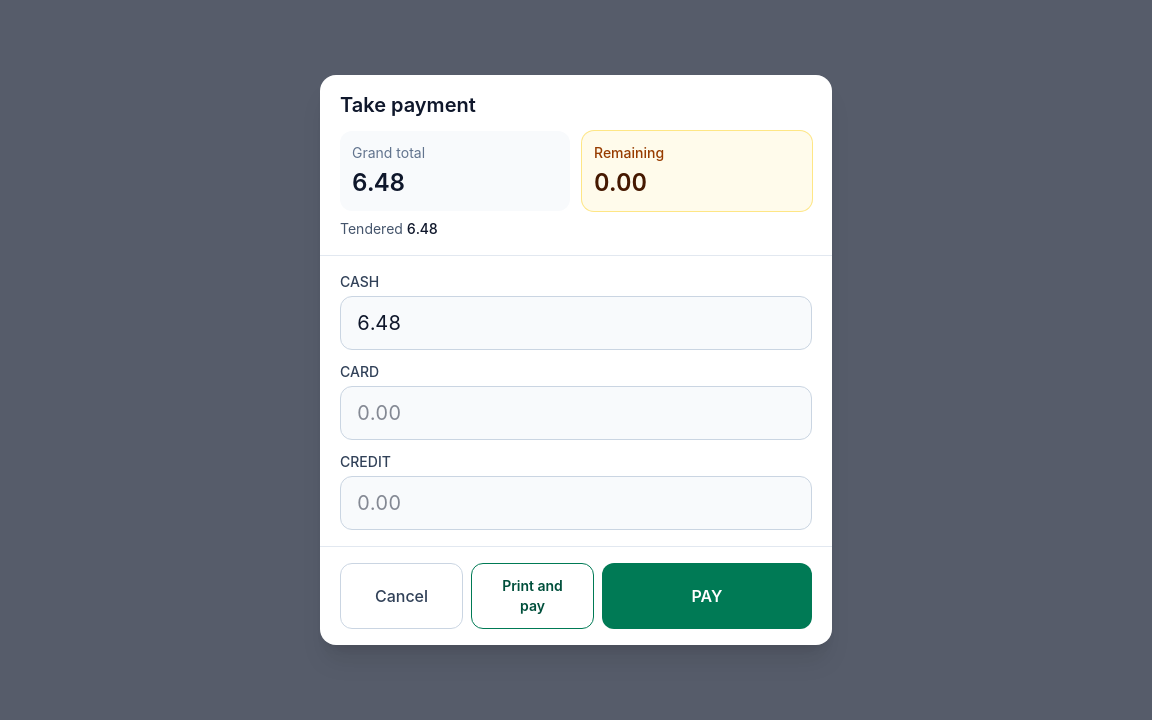
Test: CheckoutModal › lets cashier abandon the credit customer gate without clearing CREDIT amount
# Clear the CASH pre-fill so CREDIT can be typed without hitting the total cap
Clear the field labelled "CASH" at (576, 323), box [340,296,812,350]
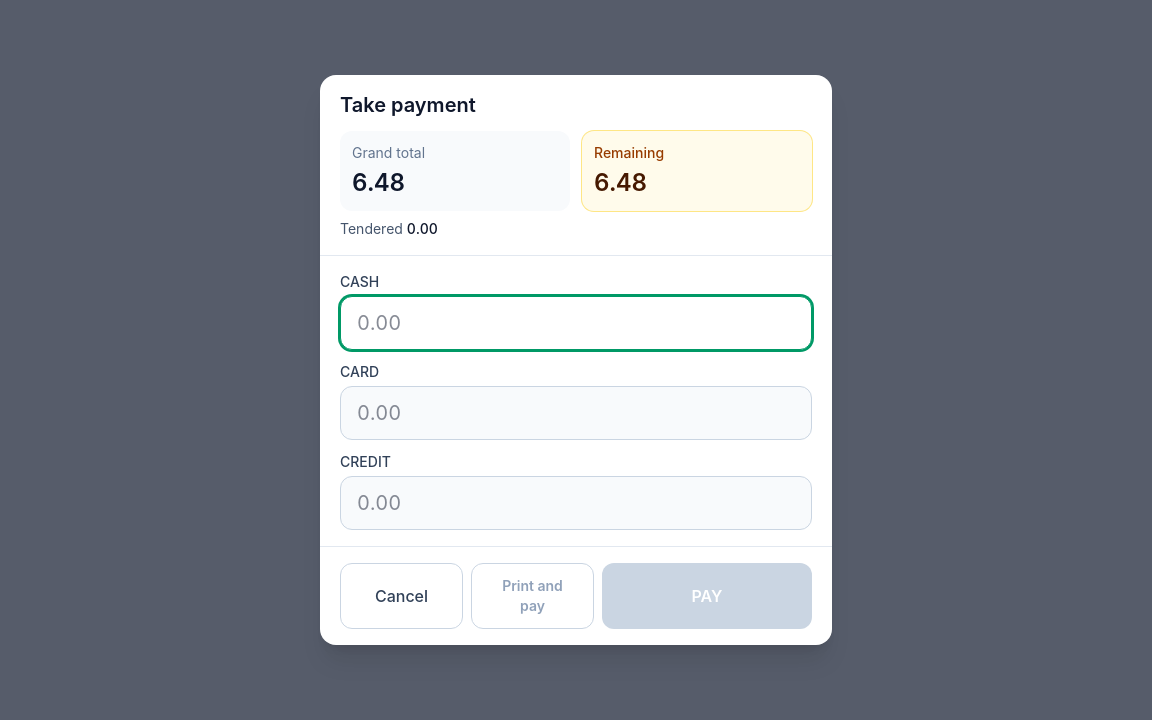
Press Tab
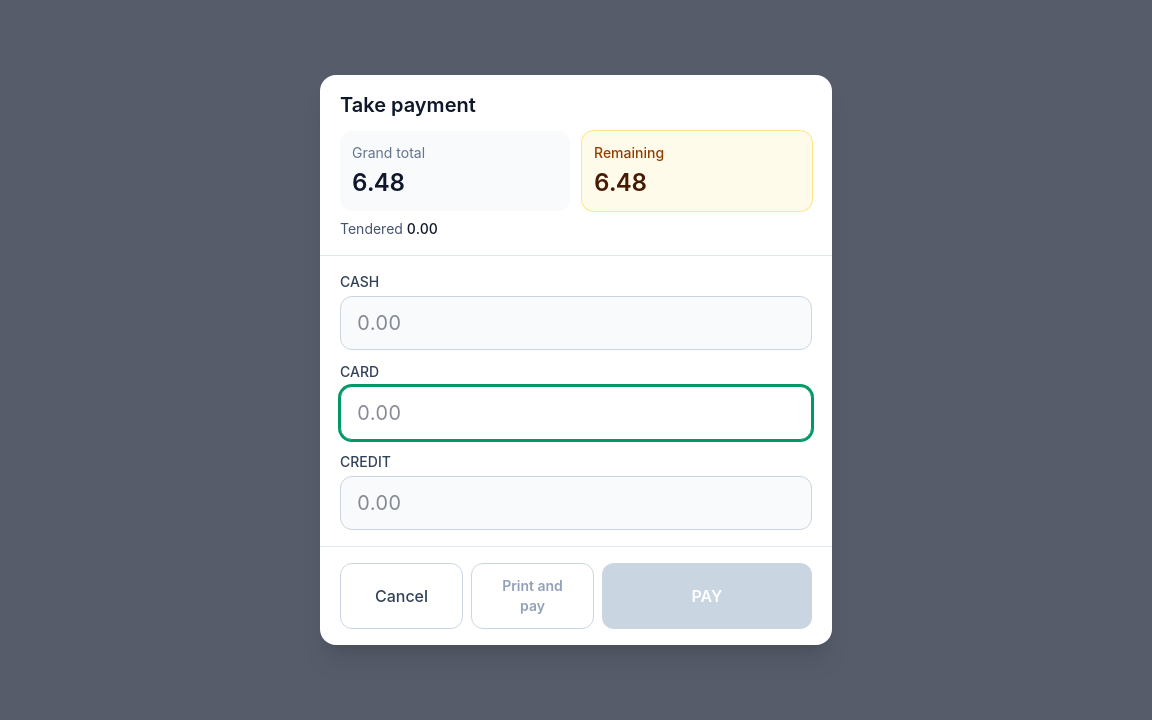
Type "4" into the field labelled "CREDIT" at (576, 503), box [340,476,812,530]
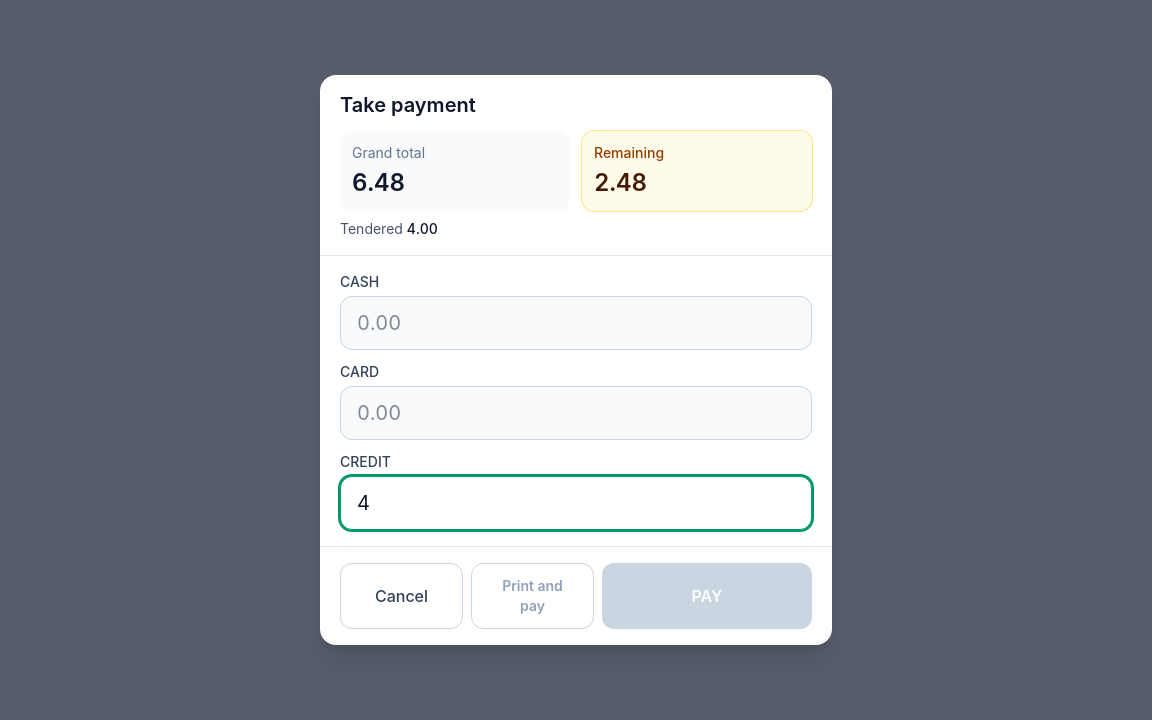
Press Tab
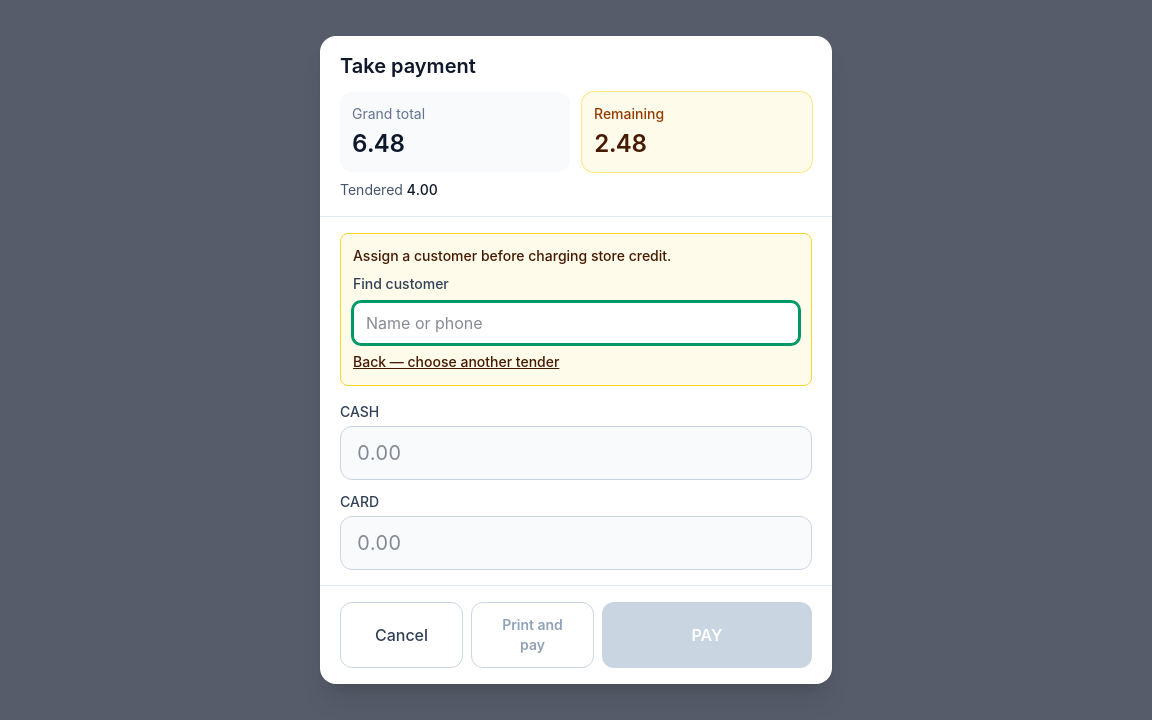
Expected: the element with test id "credit-customer-gate" is shown, [340,233,812,386]
Click the button with test id "abandon-credit-path" at (456, 362), box [353,352,559,372]
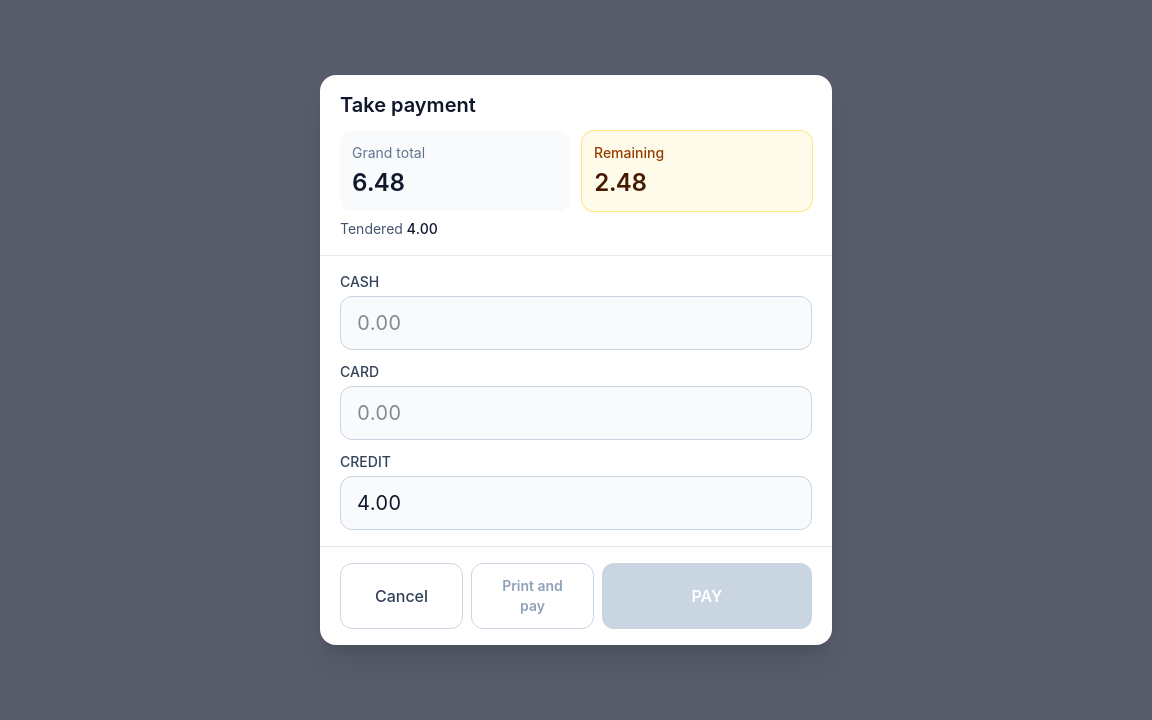
Expected: the element with test id "credit-customer-gate" is gone
